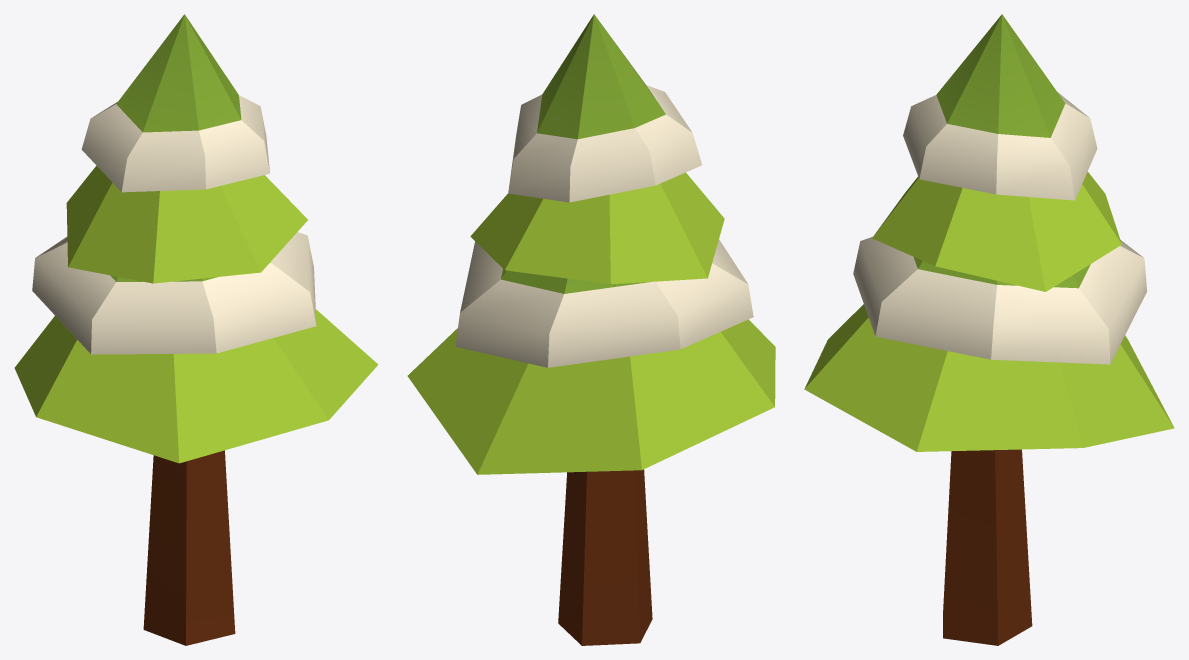
Rendered from Tree_24_Winter.fbx.
3 views of the same model, side by side, from view 1: azimuth 30°, elevation 25°; view 2: azimuth 150°, elevation 25°; view 3: azimuth 270°, elevation 25° (orthographic). The views are drawn at different scales.
Parts seen in each view (by area): view 1: Tree_24_p2_Winter, Tree_24_p1_Winter; view 2: Tree_24_p2_Winter, Tree_24_p1_Winter; view 3: Tree_24_p2_Winter, Tree_24_p1_Winter.
Boxes of the visible parts, x1,y1,x2,y2 form: Tree_24_p2_Winter: [14, 14, 378, 463]; Tree_24_p1_Winter: [143, 450, 235, 645]; Tree_24_p2_Winter: [407, 14, 775, 474]; Tree_24_p1_Winter: [558, 469, 652, 645]; Tree_24_p2_Winter: [804, 14, 1174, 451]; Tree_24_p1_Winter: [943, 449, 1032, 645].
Bounding box in the file's own units: 183 × 337 × 184.
